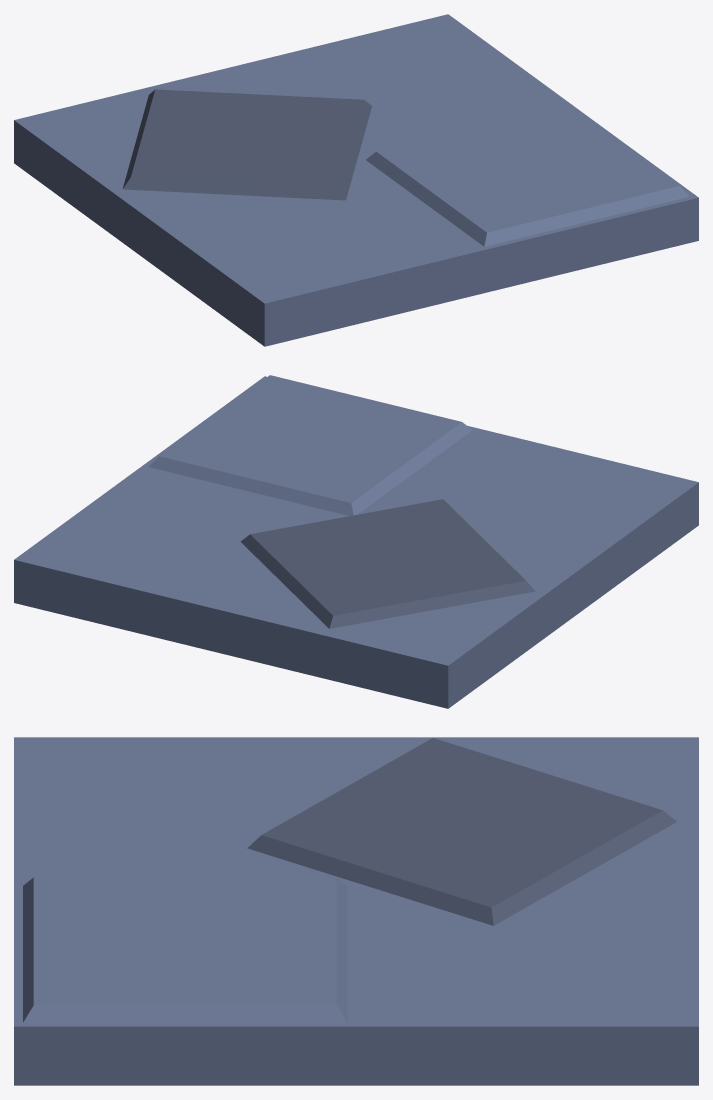
The model's file is piso grande.fbx.
The picture shows the model from 3 angles, top to bottom: view 1: azimuth 30°, elevation 25°; view 2: azimuth 150°, elevation 25°; view 3: azimuth 270°, elevation 25°; orthographic projection. The views are drawn at different scales.
Parts seen in each view (by area): view 1: floor.007; view 2: floor.007; view 3: floor.007.
Boxes of the visible parts, <box> form: floor.007: <box>14,14,698,346</box>; floor.007: <box>14,375,698,708</box>; floor.007: <box>14,737,698,1085</box>.
Bounding box in the file's own units: 211 × 24.44 × 211.
